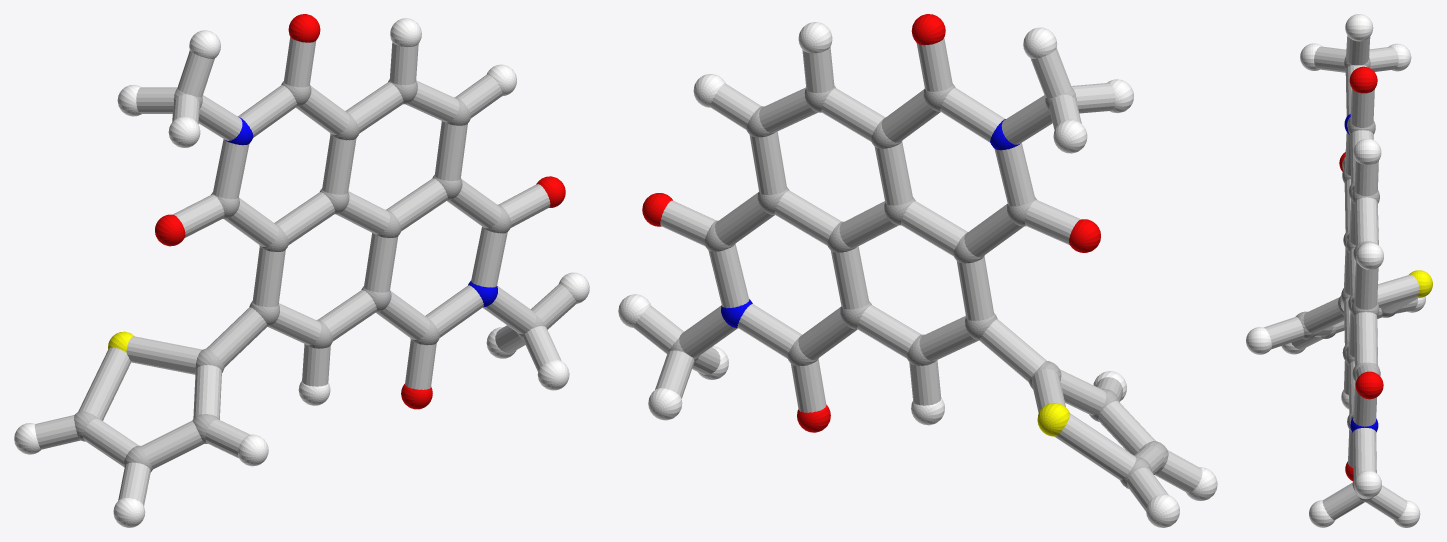
The model's file is color.glb.
3 renders of one model, left to right at view 1: azimuth 30°, elevation 25°; view 2: azimuth 150°, elevation 25°; view 3: azimuth 270°, elevation 25°, orthographic. The views are drawn at different scales.
Parts seen in each view (by area): view 1: grp14119, grp7241, grp1, grp12309, grp11585; view 2: grp14119, grp7241, grp1, grp12309, grp13757, grp11585; view 3: grp14119, grp7241, grp1, grp12309, grp13757, grp11585.
Part boxes in pixels (<box>): grp14119: <box>34,37,576,505</box>; grp7241: <box>14,18,589,527</box>; grp1: <box>74,79,545,472</box>; grp12309: <box>155,14,565,409</box>; grp11585: <box>225,117,497,306</box>; grp14119: <box>633,38,1202,511</box>; grp7241: <box>618,22,1217,527</box>; grp1: <box>669,83,1168,488</box>; grp12309: <box>642,14,1100,432</box>; grp13757: <box>1037,403,1070,436</box>; grp11585: <box>721,119,1020,327</box>; grp14119: <box>1264,35,1419,520</box>; grp7241: <box>1246,14,1425,527</box>; grp1: <box>1295,56,1397,502</box>; grp12309: <box>1339,66,1383,481</box>; grp13757: <box>1409,270,1432,297</box>; grp11585: <box>1344,114,1378,432</box>.
Size of the model in its own units: 11.89 by 9.15 by 4.01.
